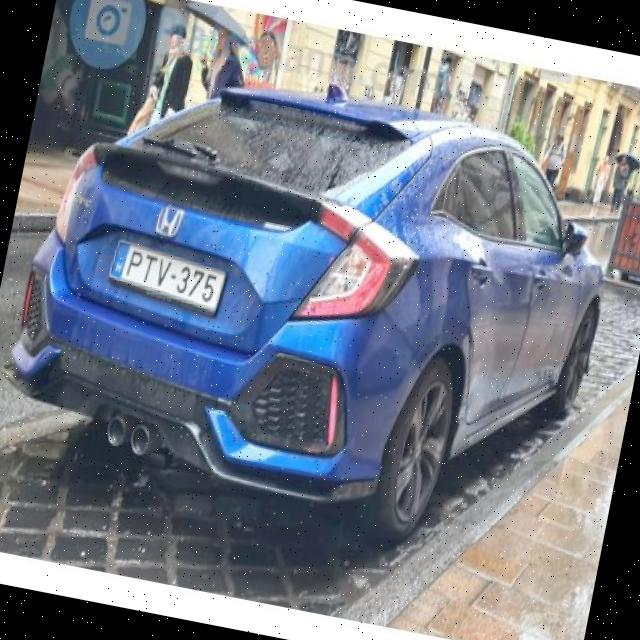licence: (103, 234, 232, 322)
